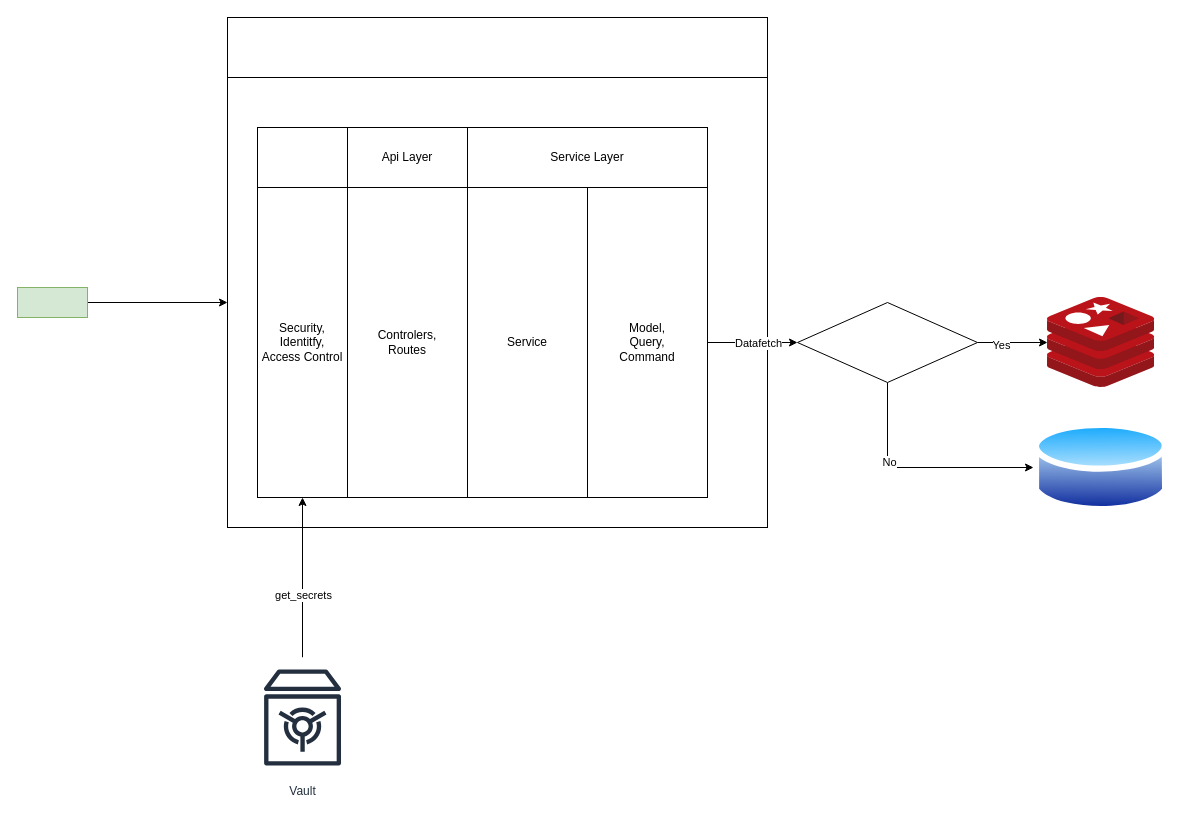
Image size: 1186x816. Some labels were removed from this diagram. Here are the shapes that lost their labels. From the top down, the centre of each, then its label:
the point at 497,47: Backend Application (Monolith)
the point at 302,157: Middleware
the point at 52,302: Requests
the point at 887,342: Check if exists in cache
